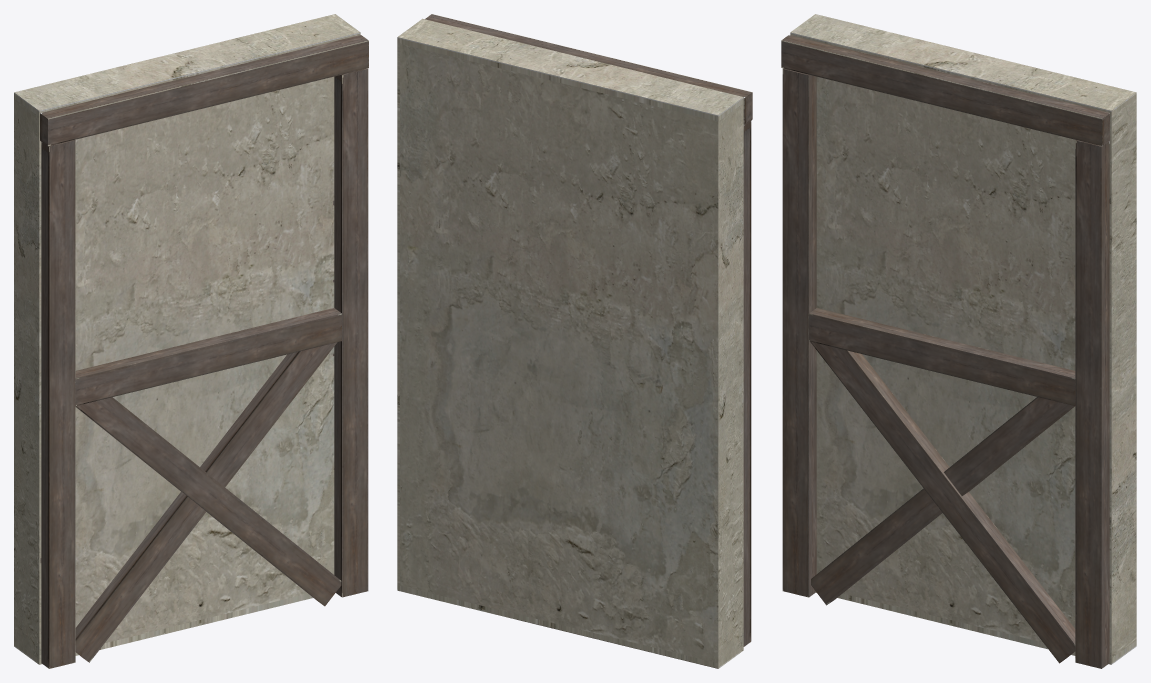
The model's file is pared_1_b.fbx.
3 renders of one model, left to right at view 1: azimuth 30°, elevation 25°; view 2: azimuth 150°, elevation 25°; view 3: azimuth 330°, elevation 25°, orthographic.
Parts seen in each view (by area): view 1: pared_1_b; view 2: pared_1_b; view 3: pared_1_b.
Part boxes in pixels (x1,y1,x2,y2): pared_1_b: (14, 14, 368, 668); pared_1_b: (397, 14, 752, 668); pared_1_b: (781, 14, 1136, 668).
Bounding box in the file's own units: 300 × 498 × 55.
